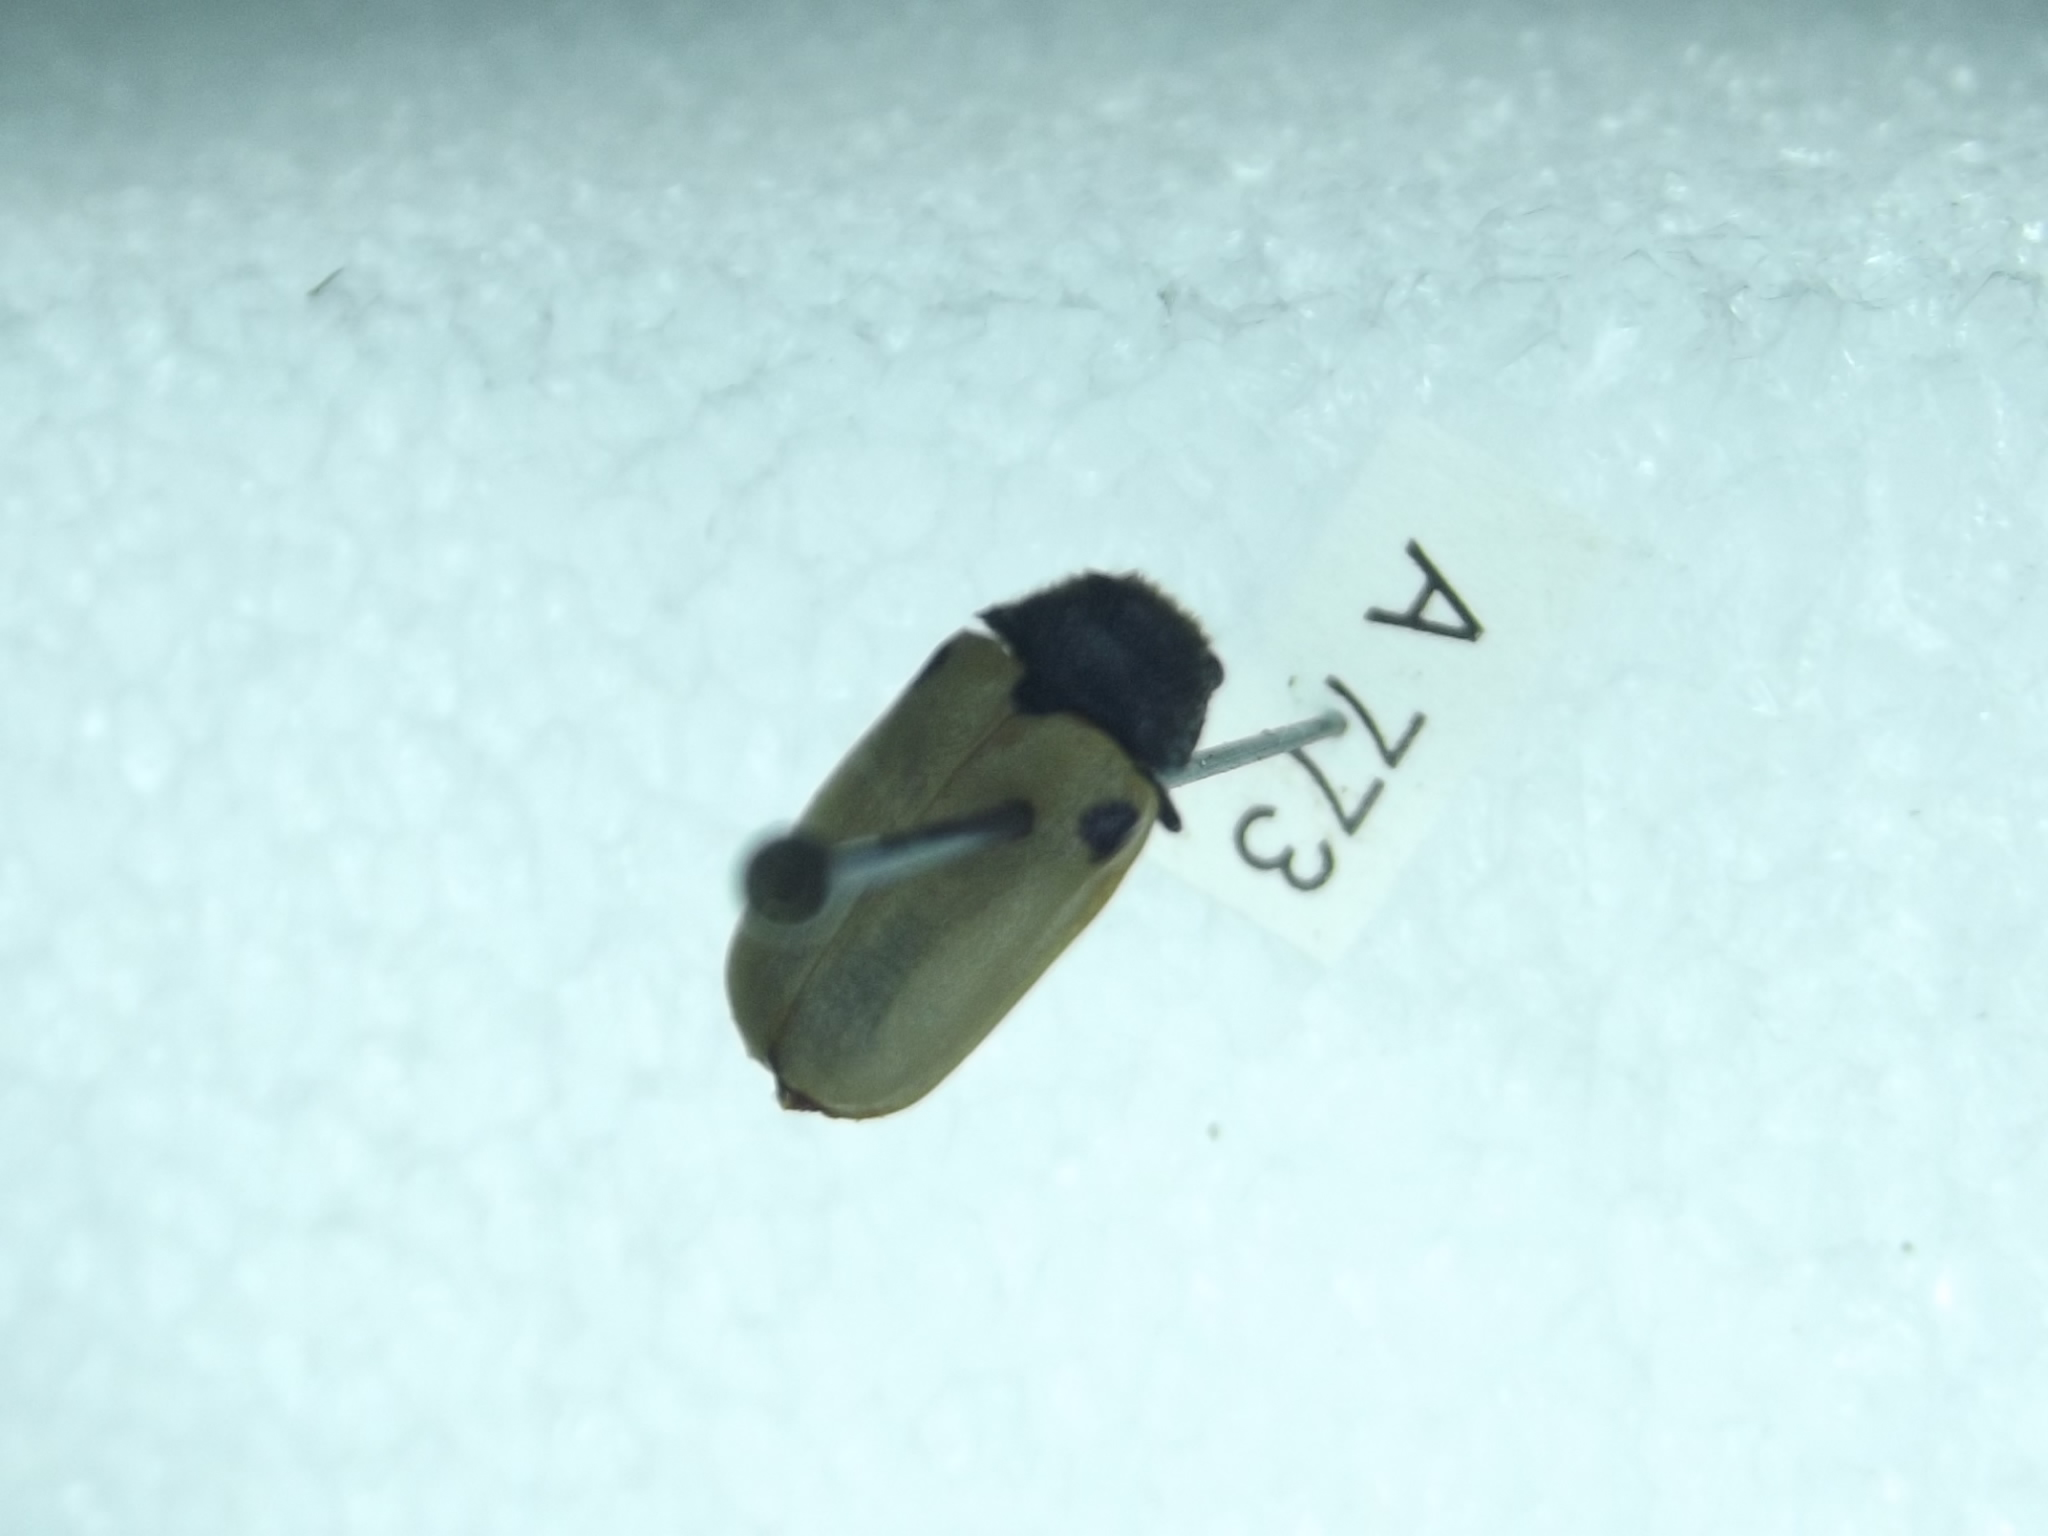Labidostomis_propinqua: (710, 555, 1235, 1129)
